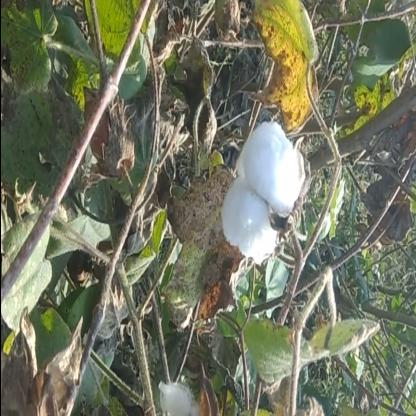cotton_ready: (216, 81, 308, 274)
